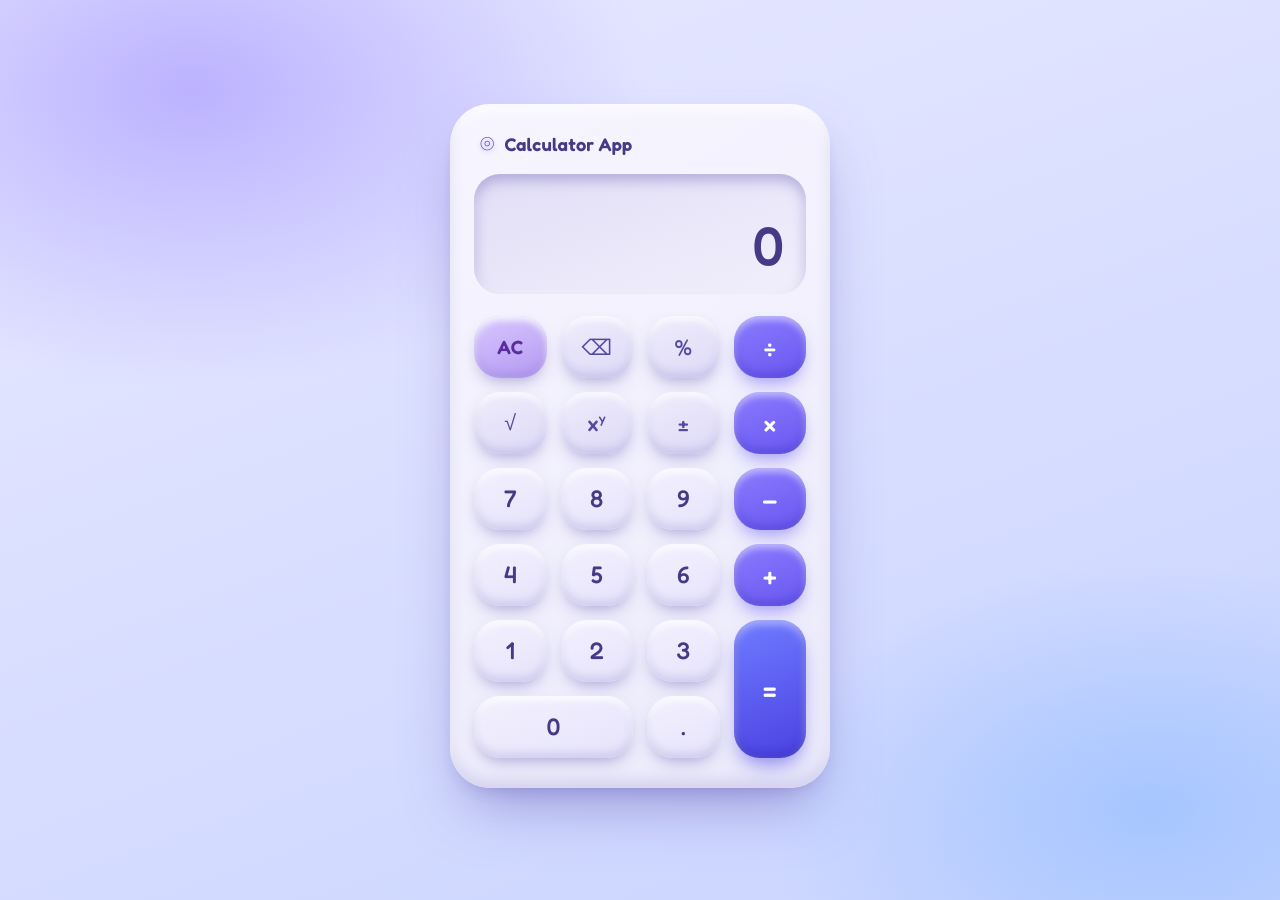
Scenario: <App /> › shows an error toast and an error display when the API rejects
The image size is (1280, 900).
Click the button "5": (597, 574) [560,544,633,606]
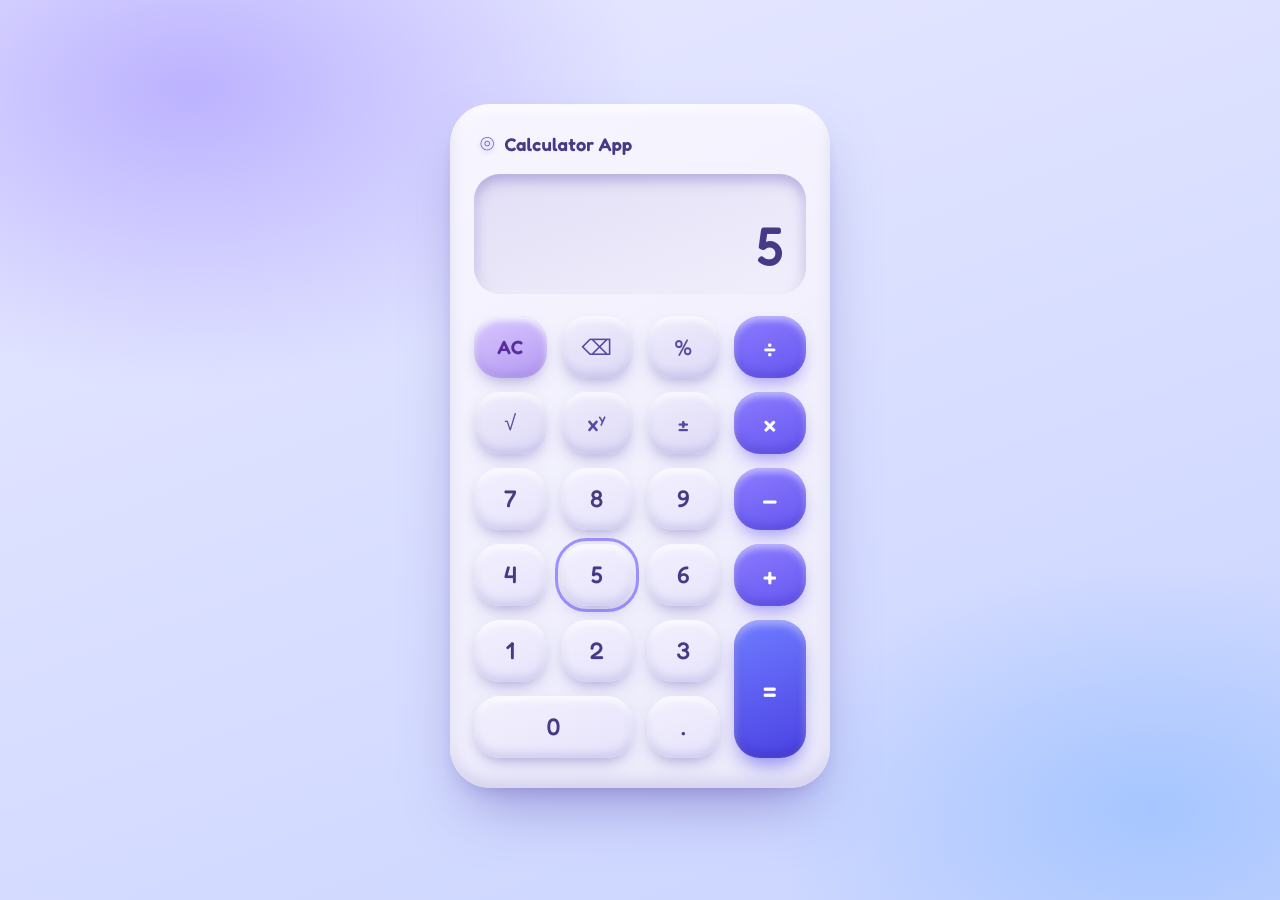
Click the button named "Divide": (770, 346) [734,316,806,378]
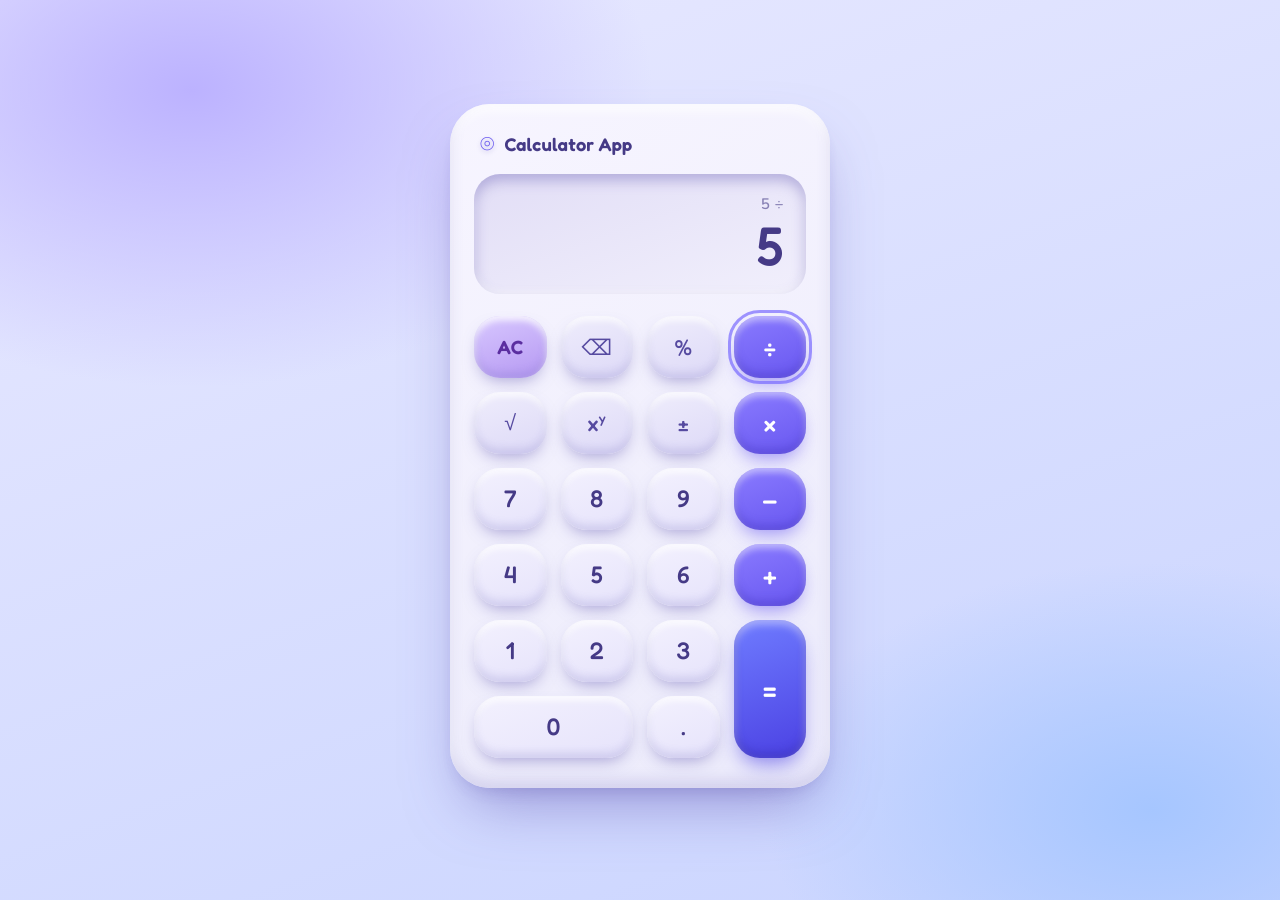
Click the button "0": (554, 726) [474,696,633,758]
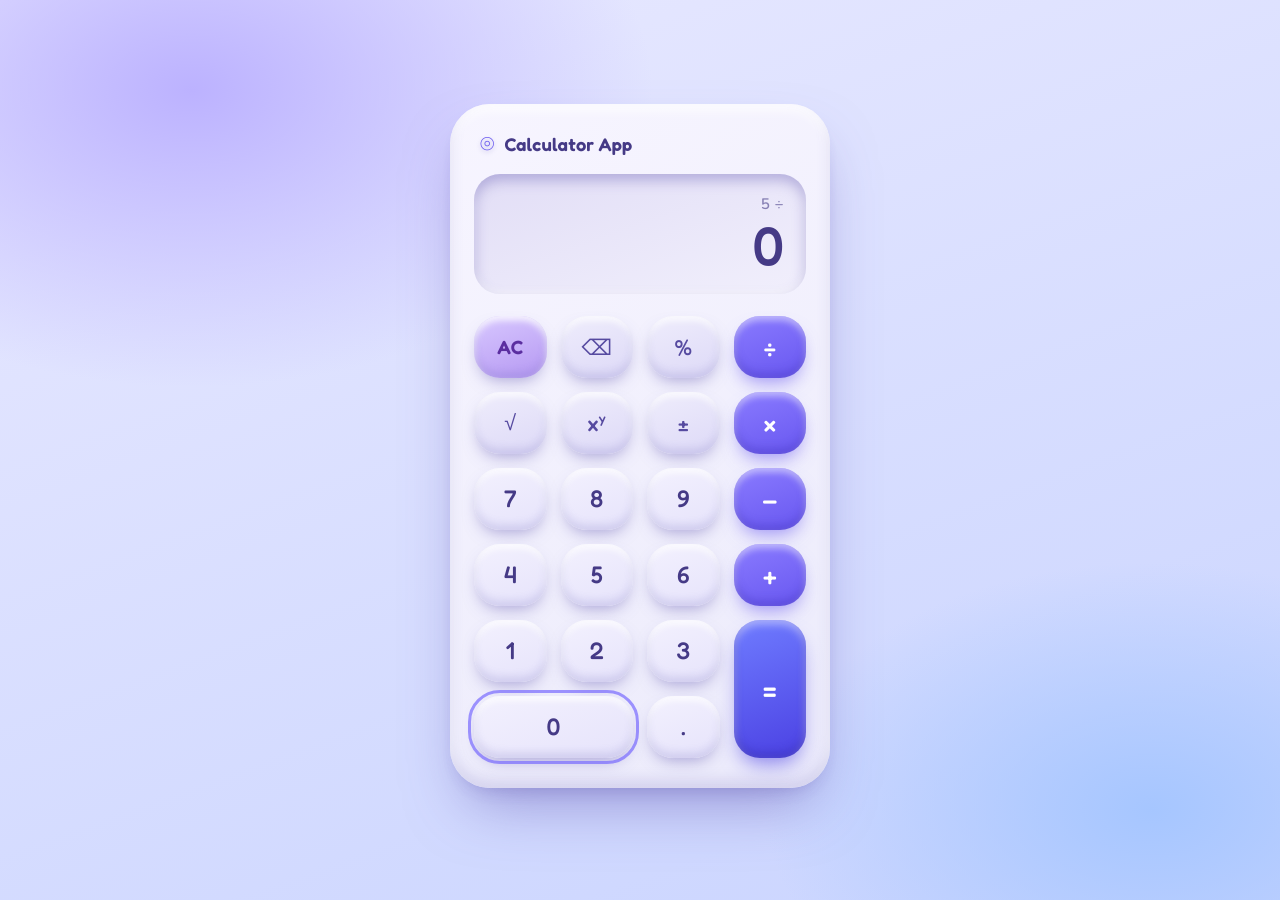
Click the button named "Equals": (770, 688) [734,620,806,758]
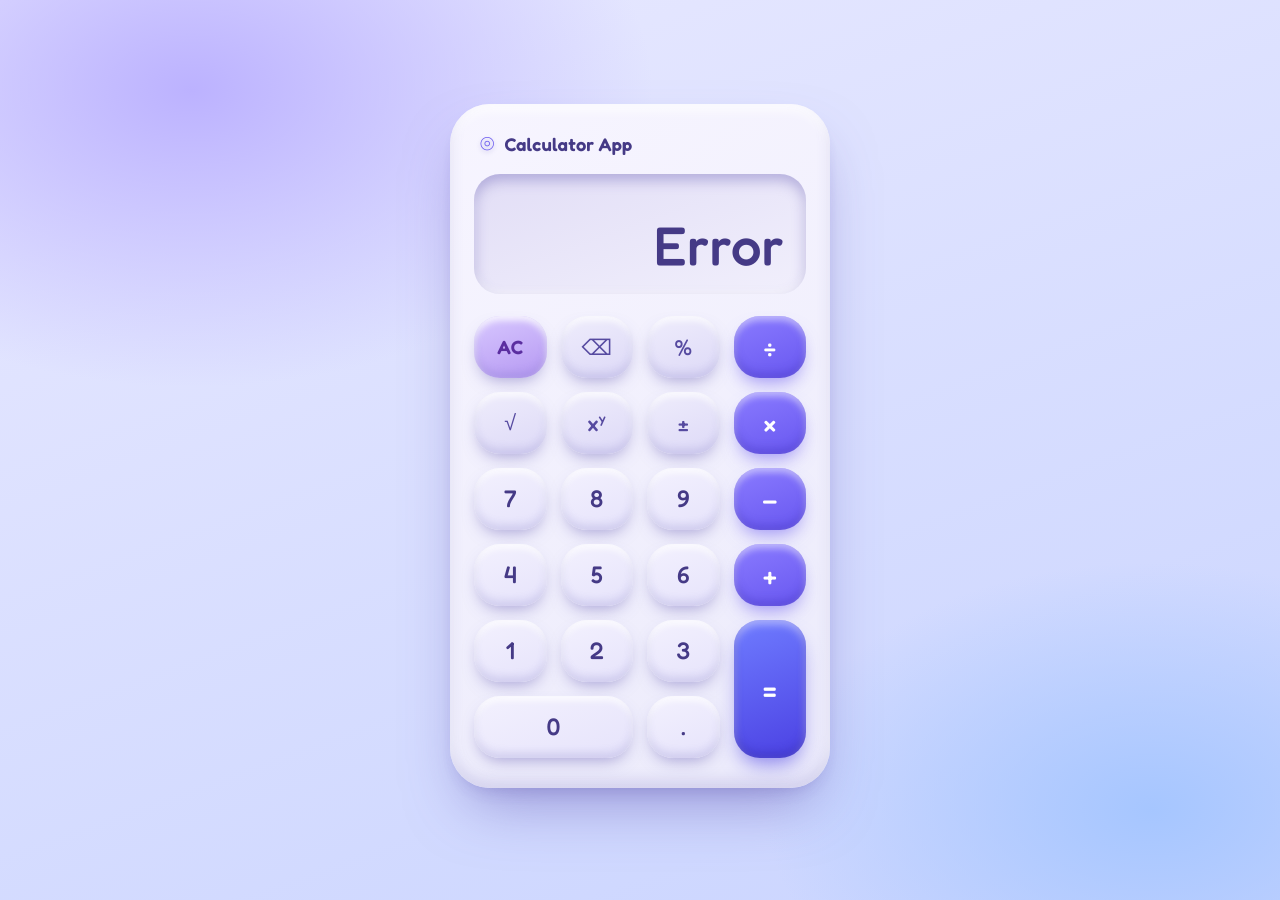
expect the text with test id "display-value" reads "Error": met, box [653,212,784,278]
